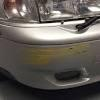front-bumper-dent: (0, 18, 99, 97)
